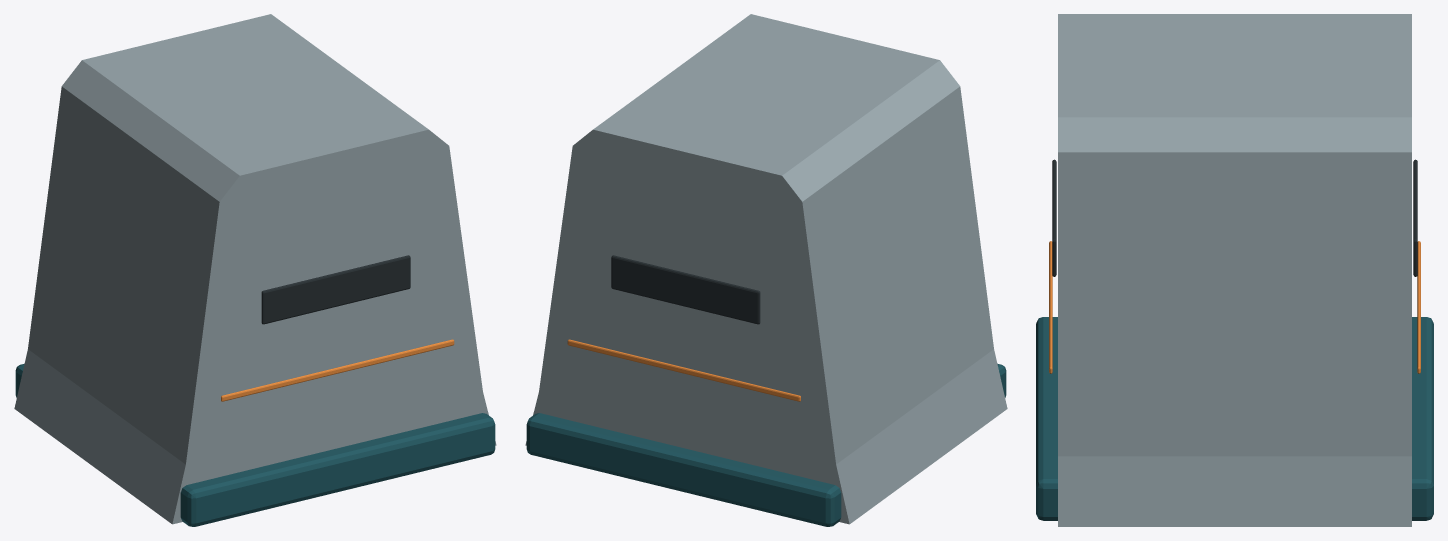
Rendered from SM_BrakeFin.fbx.
The picture shows the model from 3 angles, left to right: view 1: azimuth 30°, elevation 25°; view 2: azimuth 150°, elevation 25°; view 3: azimuth 270°, elevation 25°; orthographic projection. The views are drawn at different scales.
Parts seen in each view (by area): view 1: SM_BrakeFin_UEExport; view 2: SM_BrakeFin_UEExport; view 3: SM_BrakeFin_UEExport.
Part boxes in pixels (bbox=[...]): SM_BrakeFin_UEExport: bbox=[14, 14, 496, 526]; SM_BrakeFin_UEExport: bbox=[525, 14, 1007, 526]; SM_BrakeFin_UEExport: bbox=[1036, 14, 1433, 526].
Bounding box in the file's own units: 96 × 91 × 94.35.
